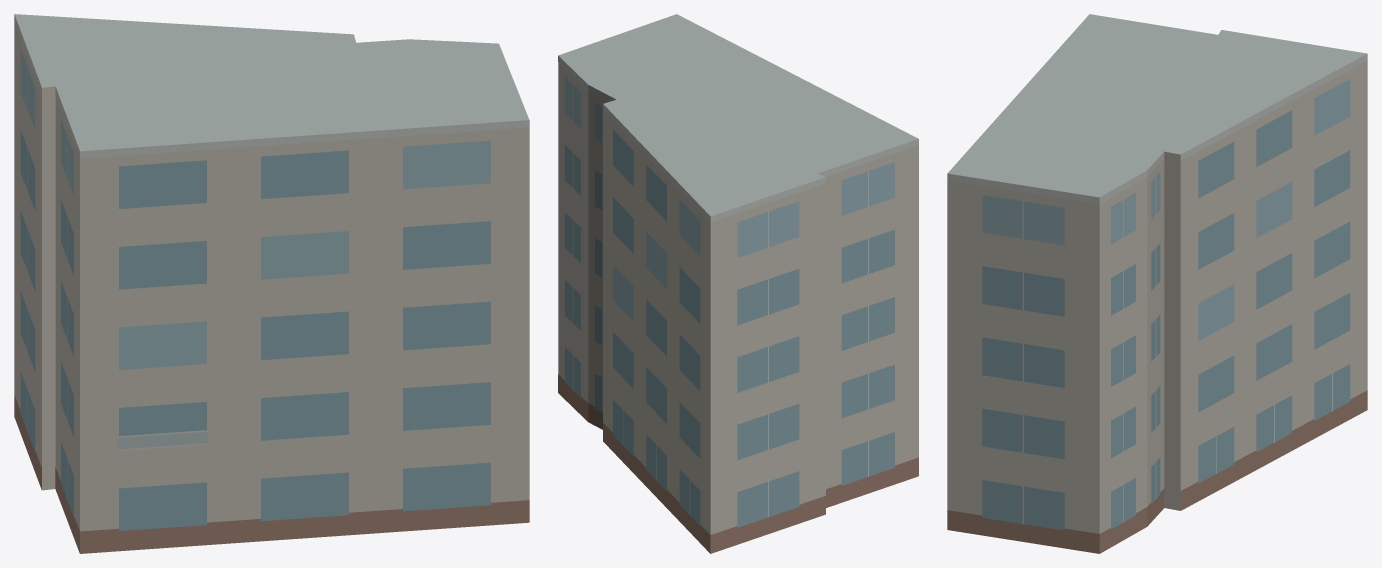
The model's file is survey-upis-32545813.glb.
3 views of the same model, side by side, from view 1: azimuth 30°, elevation 25°; view 2: azimuth 150°, elevation 25°; view 3: azimuth 270°, elevation 25° (orthographic). The views are drawn at different scales.
Parts seen in each view (by area): view 1: survey-upis-32545813.tmp; view 2: survey-upis-32545813.tmp; view 3: survey-upis-32545813.tmp.
Part boxes in pixels (x1,y1,x2,y2): survey-upis-32545813.tmp: [14, 14, 529, 553]; survey-upis-32545813.tmp: [558, 14, 918, 553]; survey-upis-32545813.tmp: [947, 14, 1367, 553].
Bounding box in the file's own units: 14.47 × 13.1 × 14.01.
